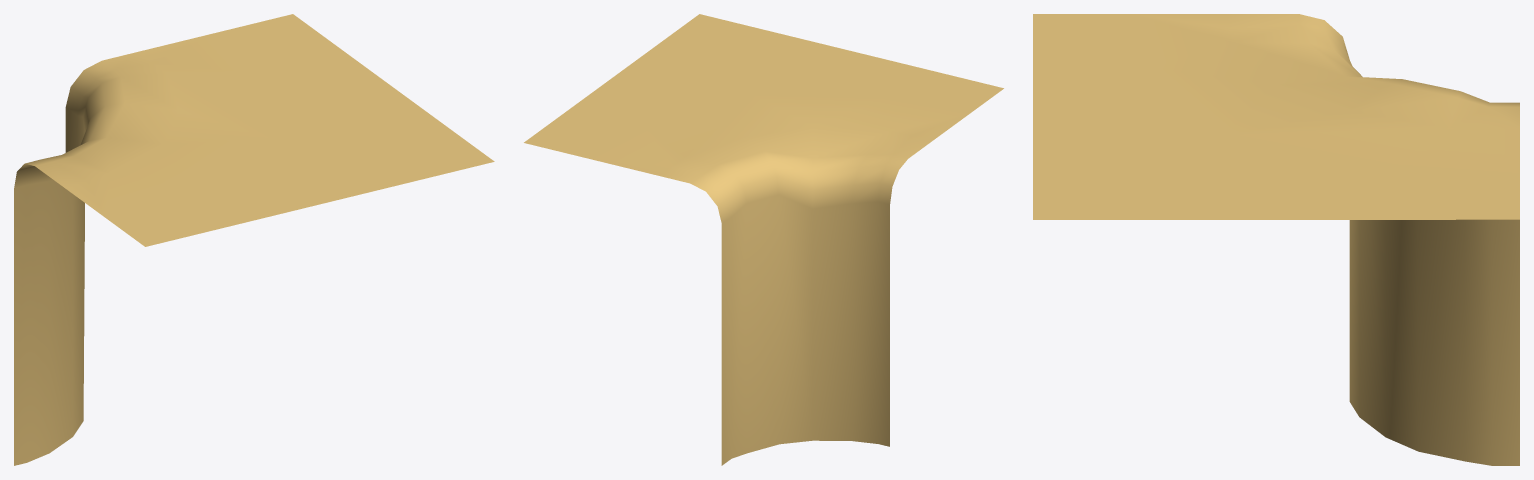
File: SandBlock_InteriorCorner_Mesh.fbx
3 renders of one model, left to right at view 1: azimuth 30°, elevation 25°; view 2: azimuth 150°, elevation 25°; view 3: azimuth 270°, elevation 25°, orthographic. The views are drawn at different scales.
Parts seen in each view (by area): view 1: SandBlock_InteriorCorner; view 2: SandBlock_InteriorCorner; view 3: SandBlock_InteriorCorner.
Boxes of the visible parts, <box> form: SandBlock_InteriorCorner: <box>14,14,494,465</box>; SandBlock_InteriorCorner: <box>524,14,1003,465</box>; SandBlock_InteriorCorner: <box>1033,14,1519,465</box>.
Bounding box in the file's own units: 200 × 200 × 175.
